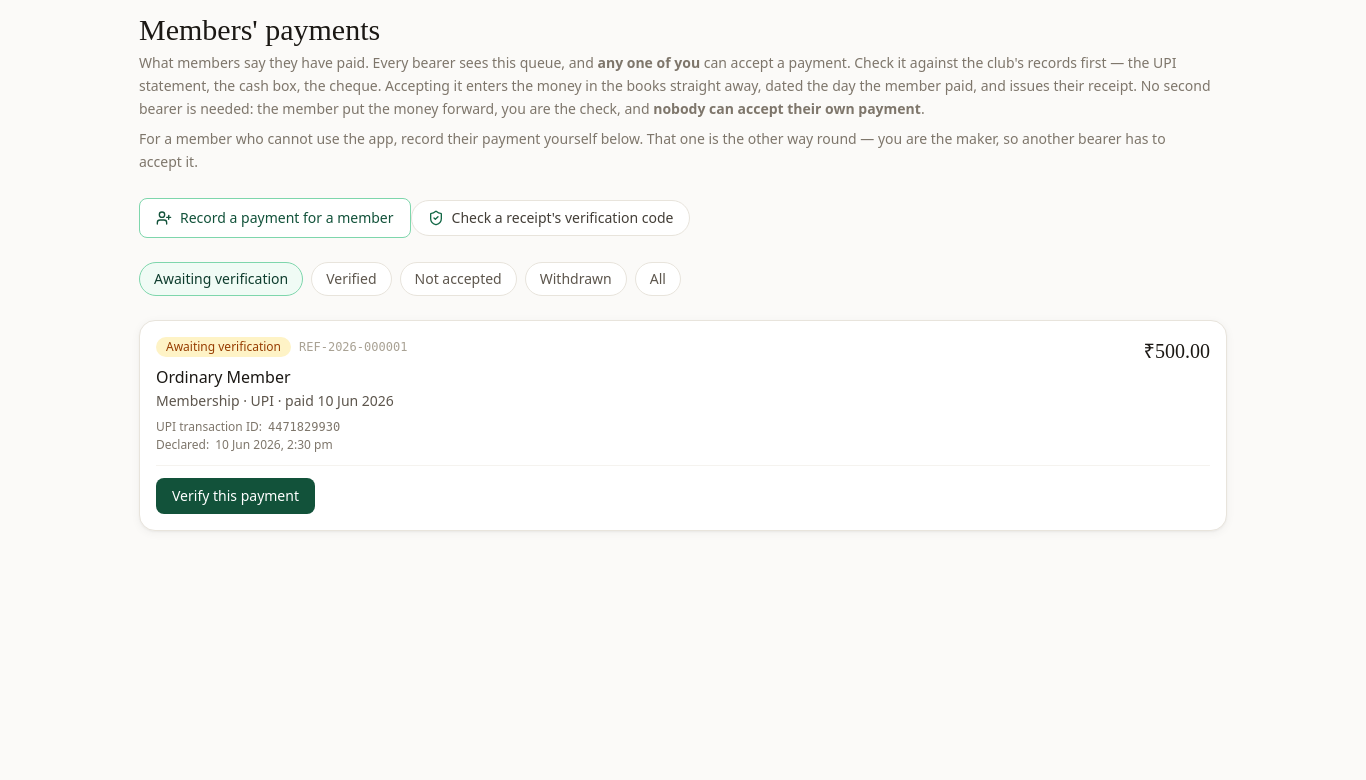
the officers’ queue › records against the chosen fund and category, and says a second officer is needed
Click the button "Verify this payment": {"x": 236, "y": 496} [156,478,315,514]
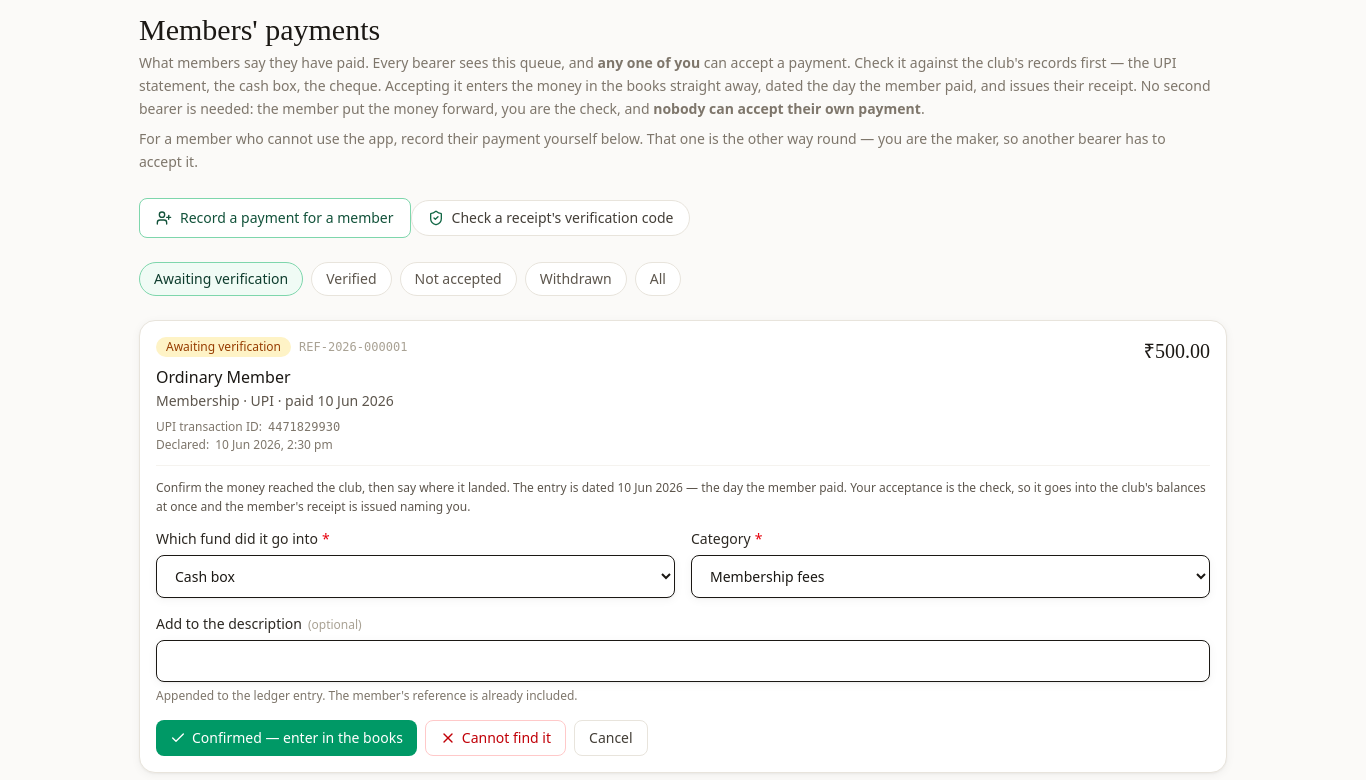
Select "Bank account" in the dropdown labelled "Which fund did it go into*": {"x": 416, "y": 576} [156,555,675,598]
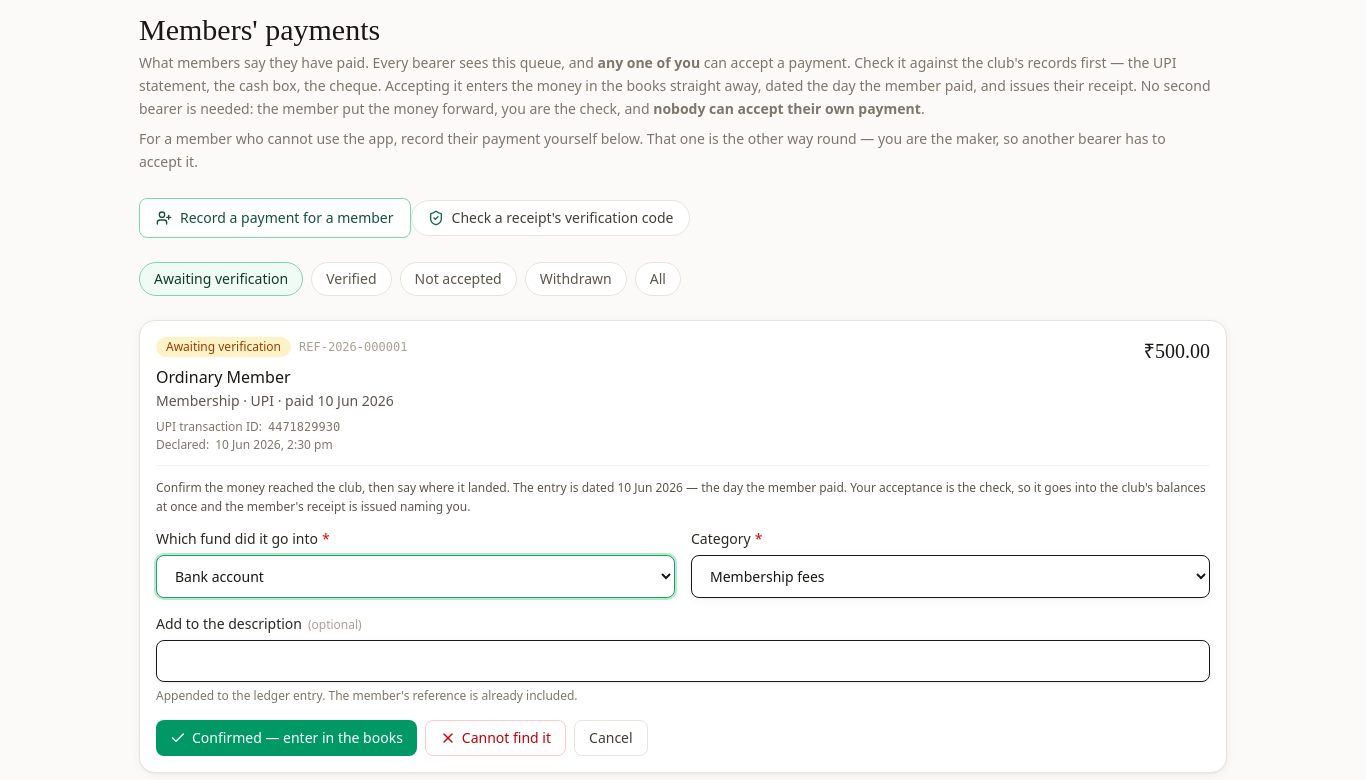
Select "Membership fees" in the dropdown labelled "Category*": {"x": 950, "y": 576} [691,555,1210,598]
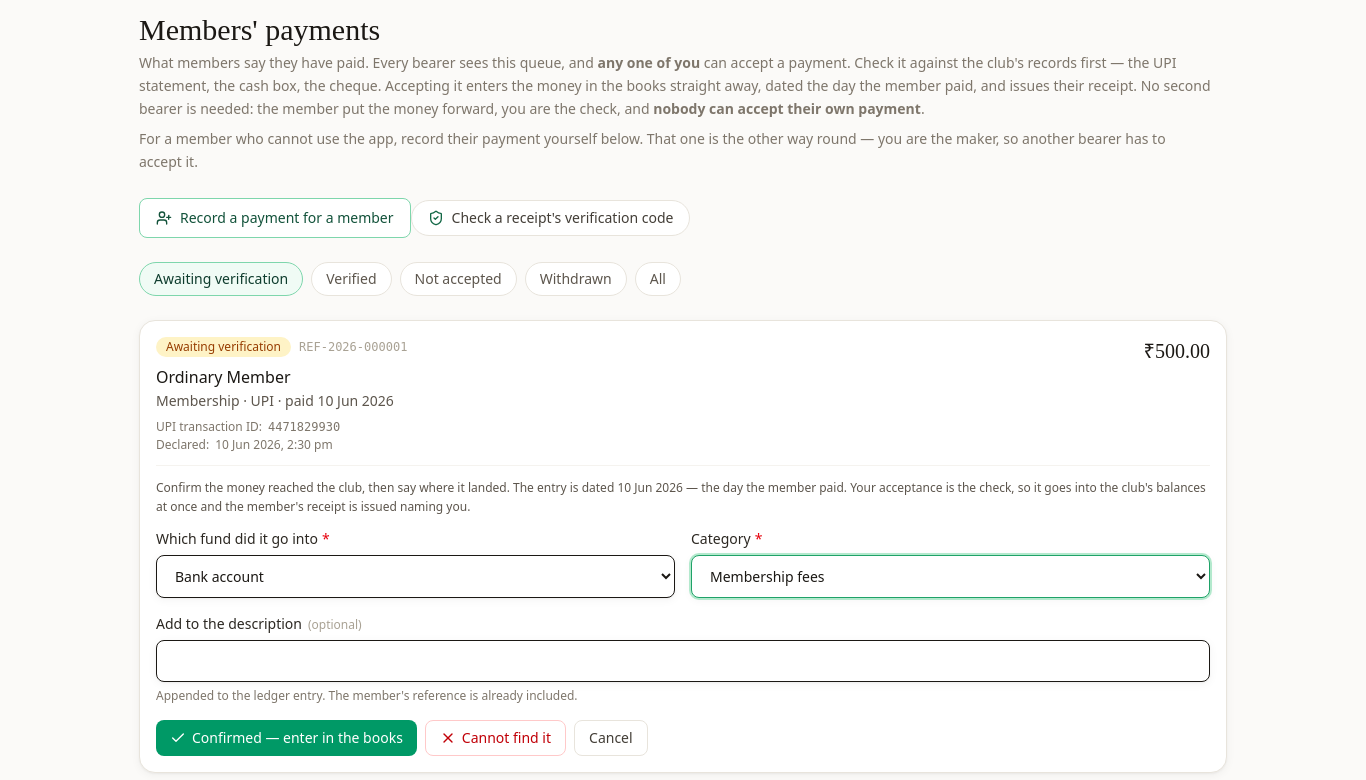
Click the button "Confirmed — enter in the books": {"x": 286, "y": 738} [156,720,417,756]
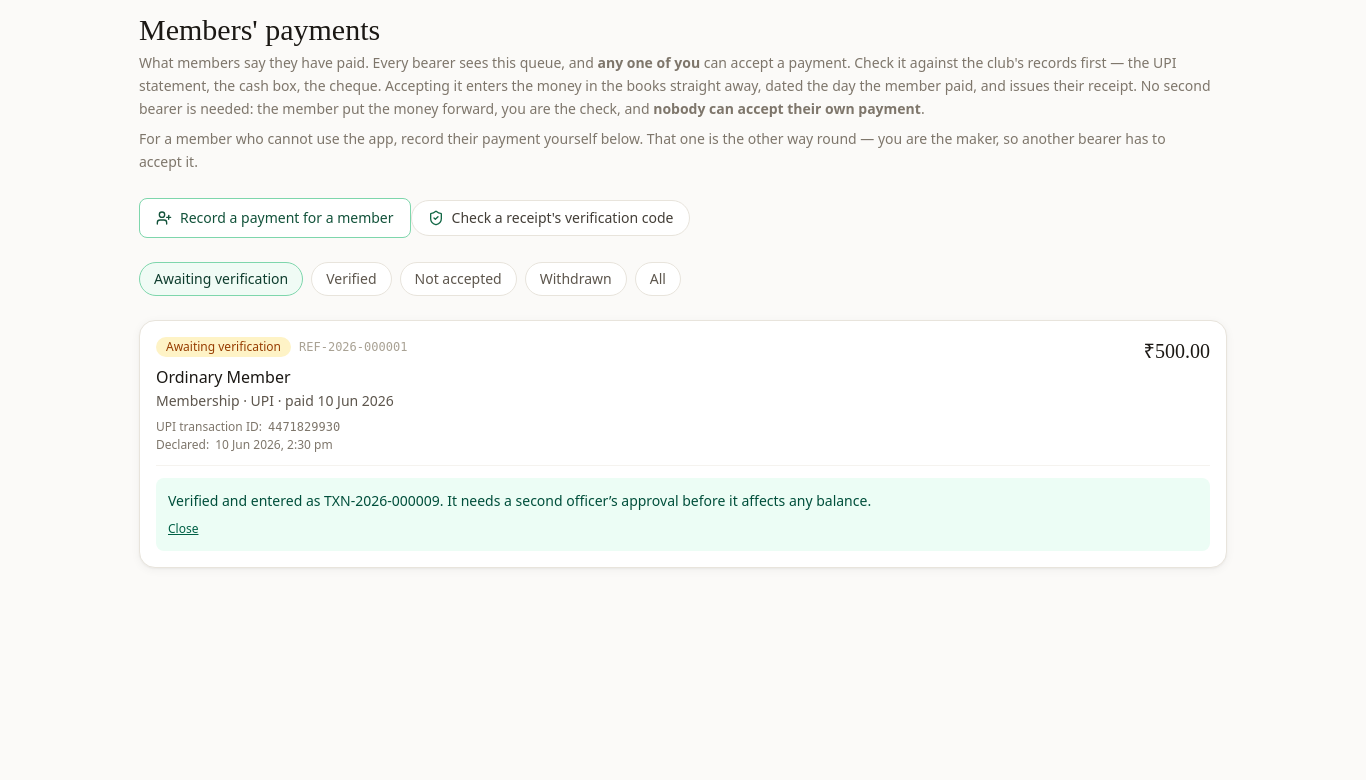
Result: the message shows "needs a second officer" at [168,491,871,510]
